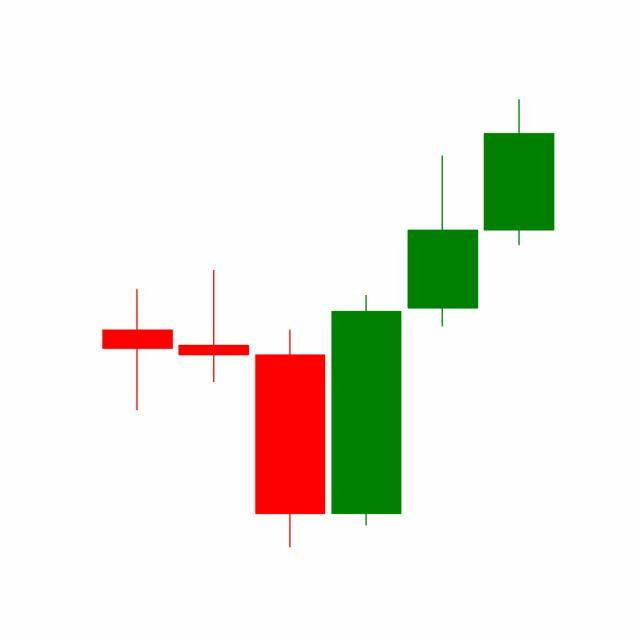Advance Block: (326, 99, 555, 531)
